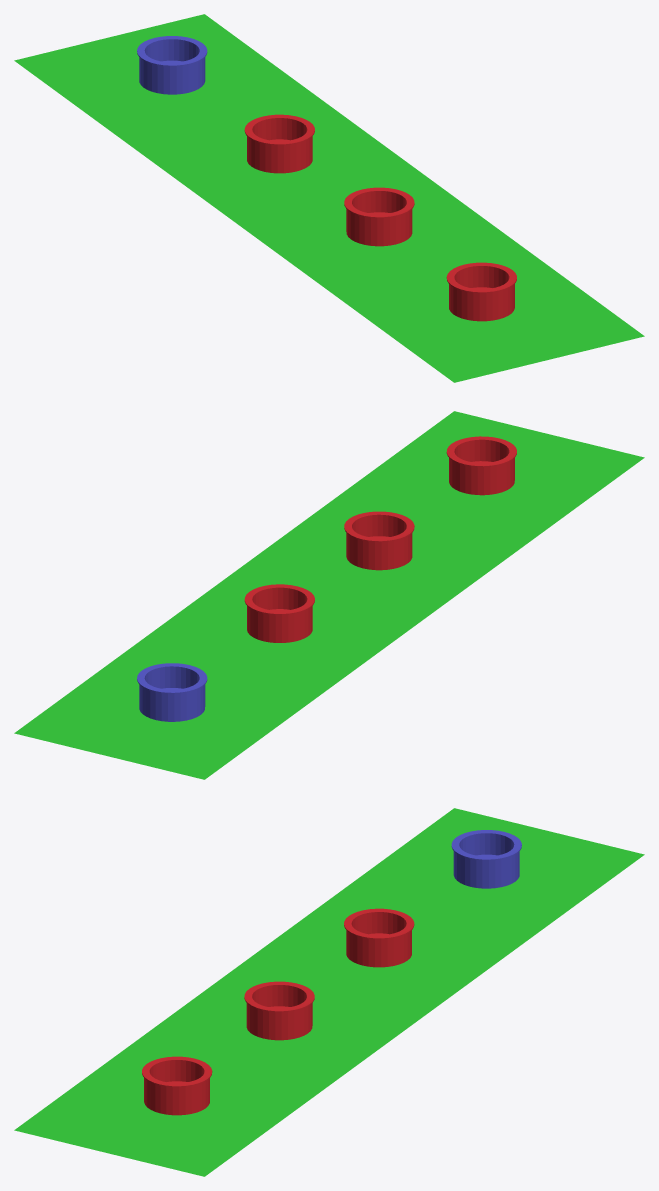
File: sauvc_drums.fbx
The picture shows the model from 3 angles, top to bottom: view 1: azimuth 30°, elevation 25°; view 2: azimuth 150°, elevation 25°; view 3: azimuth 330°, elevation 25°; orthographic projection.
Parts seen in each view (by area): view 1: Plane, Cylinder.002, Cylinder, Cylinder.003, Cylinder.001; view 2: Plane, Cylinder.002, Cylinder, Cylinder.003, Cylinder.001; view 3: Plane, Cylinder.002, Cylinder, Cylinder.003, Cylinder.001.
Boxes of the visible parts, x1,y1,x2,y2 form: Plane: [14, 14, 644, 382]; Cylinder.002: [344, 187, 414, 246]; Cylinder: [137, 36, 207, 94]; Cylinder.003: [446, 262, 516, 321]; Cylinder.001: [244, 114, 314, 173]; Plane: [14, 411, 644, 779]; Cylinder.002: [344, 511, 414, 570]; Cylinder: [137, 663, 207, 721]; Cylinder.003: [446, 436, 516, 495]; Cylinder.001: [244, 584, 314, 642]; Plane: [14, 808, 644, 1176]; Cylinder.002: [244, 981, 314, 1040]; Cylinder: [451, 830, 521, 888]; Cylinder.003: [142, 1056, 212, 1115]; Cylinder.001: [344, 908, 414, 967].
Bounding box in the file's own units: 200 × 32.68 × 800.
